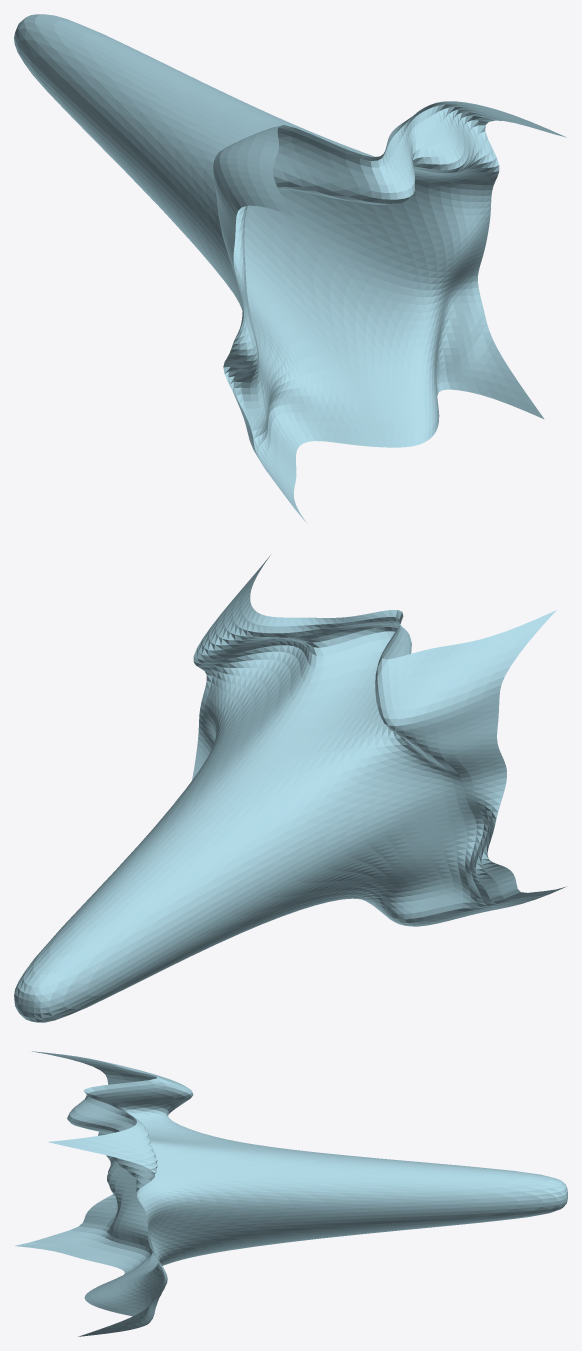
File: resnet56.obj
3 renders of one model, top to bottom at view 1: azimuth 30°, elevation 25°; view 2: azimuth 150°, elevation 25°; view 3: azimuth 270°, elevation 25°, orthographic. The views are drawn at different scales.
Parts seen in each view (by area): view 1: grp1; view 2: grp1; view 3: grp1.
Boxes of the visible parts, bbox=[...] form: grp1: bbox=[14, 14, 566, 522]; grp1: bbox=[14, 555, 566, 1022]; grp1: bbox=[15, 1051, 567, 1336].
Bounding box in the file's own units: 2 × 2 × 5.15.
